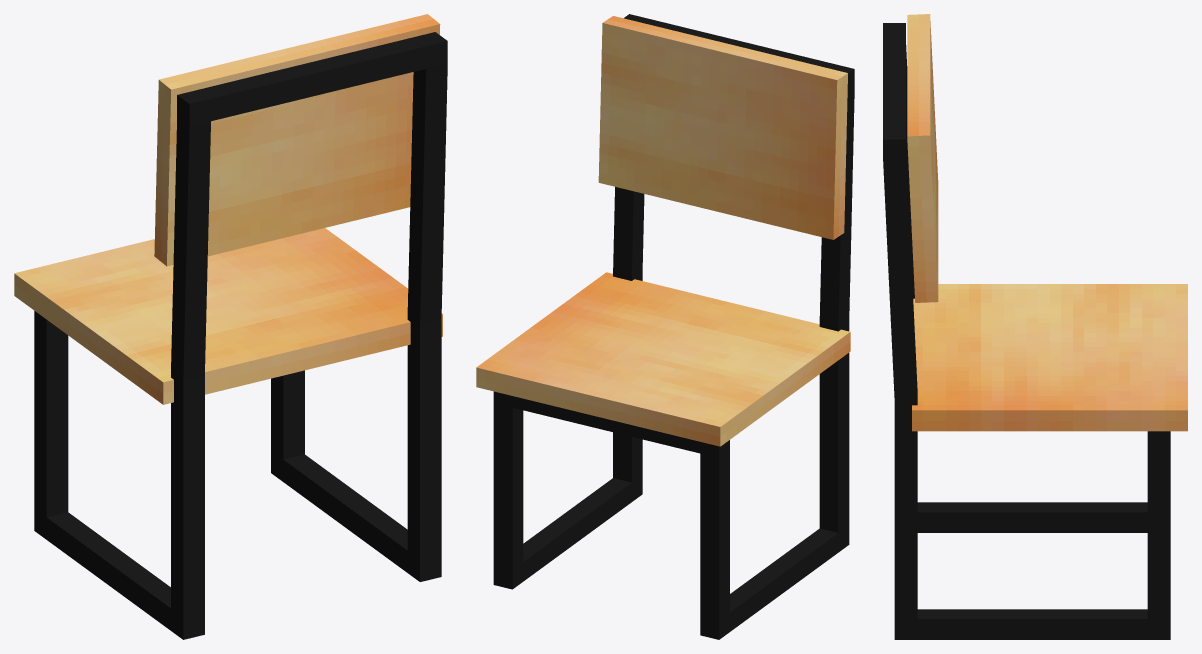
Rendered from modern_wood_chair.gltf.
3 views of the same model, side by side, from view 1: azimuth 30°, elevation 25°; view 2: azimuth 150°, elevation 25°; view 3: azimuth 270°, elevation 25° (orthographic). The views are drawn at different scales.
Visible parts, largest first — view 1: cube; view 2: cube; view 3: cube.
Part boxes in pixels (x1,y1,x2,y2): cube: [14, 14, 447, 639]; cube: [476, 14, 854, 639]; cube: [883, 14, 1187, 639].
Bounding box in the file's own units: 0.8125 × 1.52 × 0.8281.
1 material, 1 textured.
